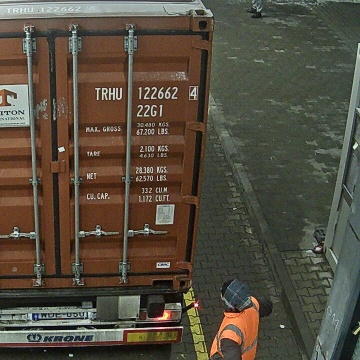serial_id: (95, 87, 197, 100)
